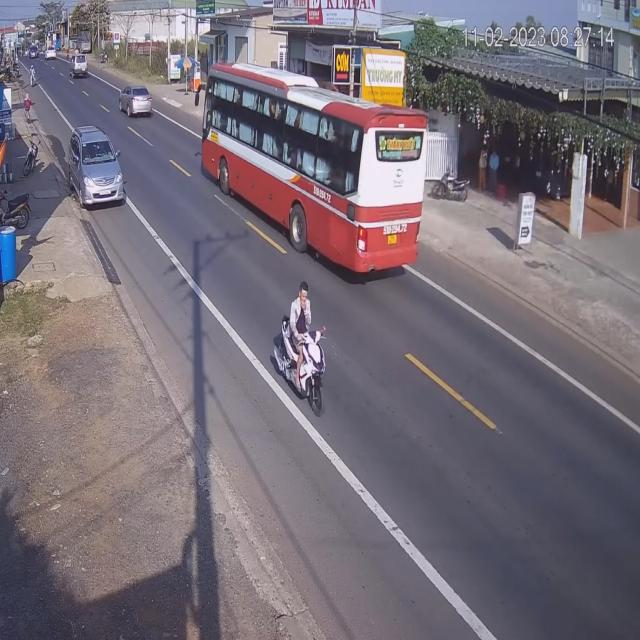bus: (199, 65, 426, 278)
car: (68, 126, 126, 210), (121, 85, 154, 119), (71, 54, 88, 82)
motorbike: (273, 284, 326, 412)
